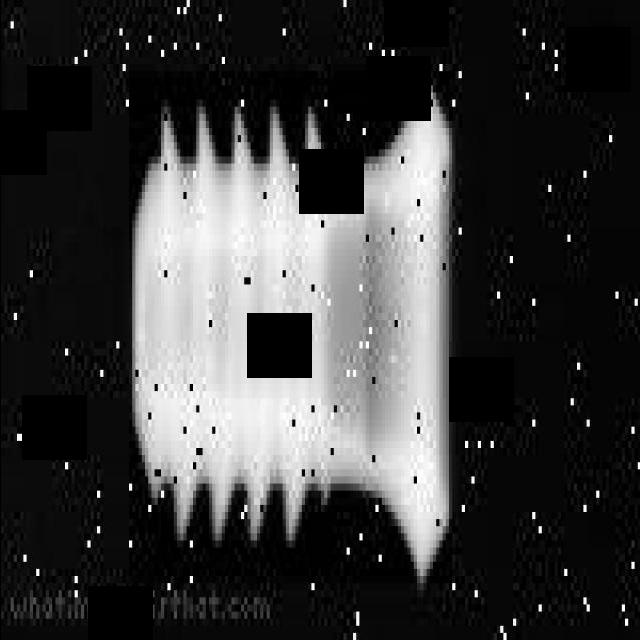Root canal filling: (128, 71, 451, 583)
